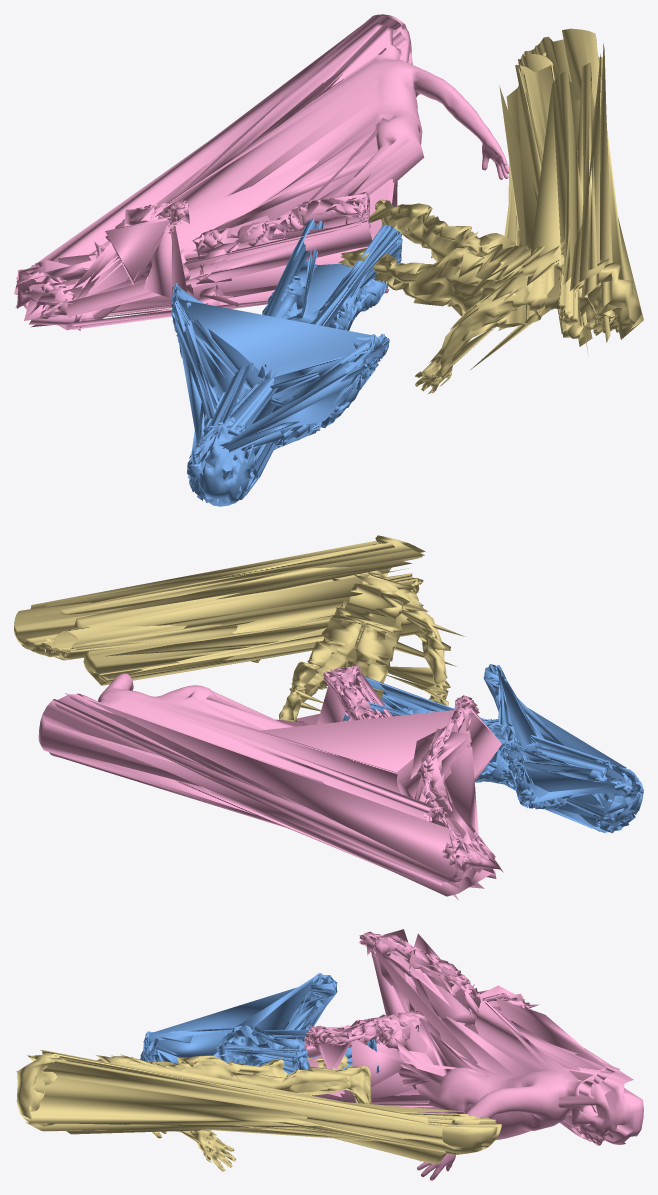
File: combined.dae
The picture shows the model from 3 angles, top to bottom: view 1: azimuth 30°, elevation 25°; view 2: azimuth 150°, elevation 25°; view 3: azimuth 270°, elevation 25°; orthographic projection. The views are drawn at different scales.
Visible parts, largest first — view 1: Baby_Body, Baby_Body.001, Baby_Body.002; view 2: Baby_Body, Baby_Body.001, Baby_Body.002; view 3: Baby_Body, Baby_Body.001, Baby_Body.002.
Boxes of the visible parts, left/top/right/bottom form: Baby_Body: left=14, top=14, right=508, bottom=330; Baby_Body.001: left=338, top=28, right=643, bottom=393; Baby_Body.002: left=171, top=218, right=402, bottom=506; Baby_Body: left=38, top=665, right=503, bottom=900; Baby_Body.001: left=14, top=535, right=465, bottom=721; Baby_Body.002: left=343, top=664, right=643, bottom=833; Baby_Body: left=304, top=929, right=643, bottom=1180; Baby_Body.001: left=16, top=1050, right=501, bottom=1171; Baby_Body.002: left=140, top=973, right=379, bottom=1095.
Size of the model in its own units: 10.56 by 10.53 by 4.14.
